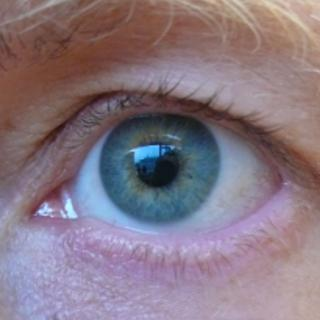pupil: (134, 140, 180, 186)
